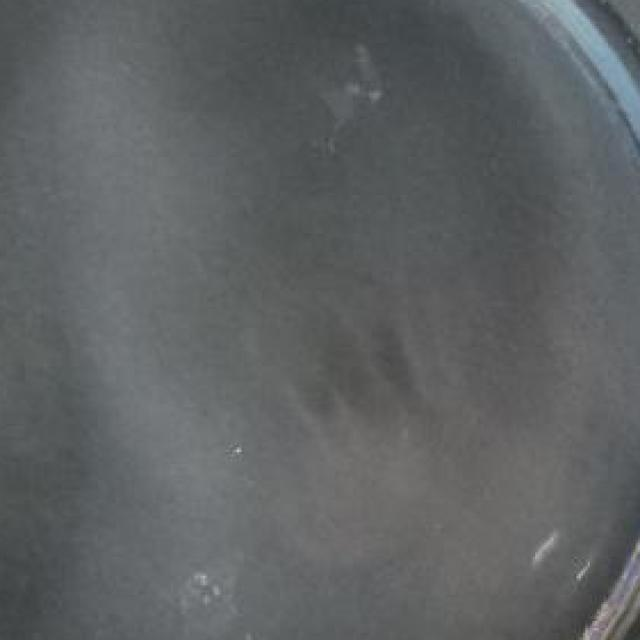Microplastic: (296, 36, 392, 162), (175, 552, 244, 640)
